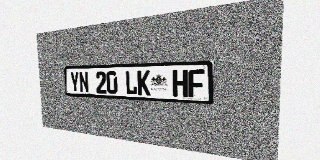0: (106, 71, 117, 94)
2: (96, 71, 107, 94)
F: (188, 69, 204, 98)
H: (173, 69, 188, 97)
K: (137, 70, 150, 96)
L: (125, 70, 137, 95)
N: (79, 71, 89, 93)
Y: (70, 72, 80, 92)
